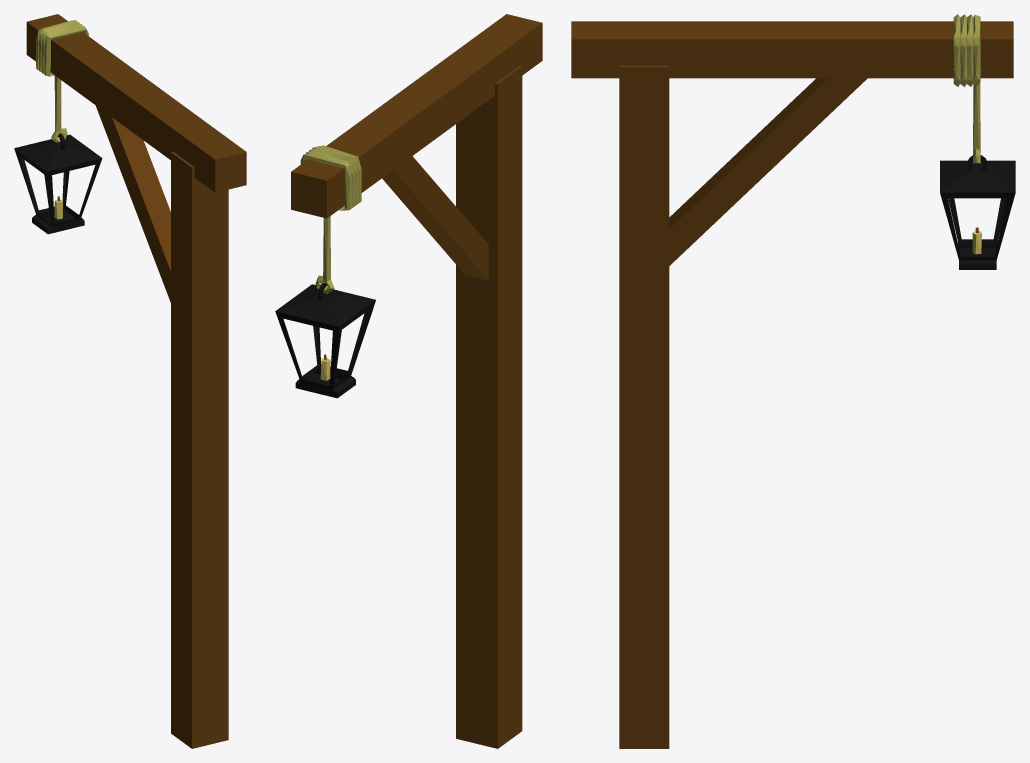
Rendered from PosteDeLuz.fbx.
3 views of the same model, side by side, from view 1: azimuth 30°, elevation 25°; view 2: azimuth 150°, elevation 25°; view 3: azimuth 270°, elevation 25° (orthographic). The views are drawn at different scales.
Visible parts, largest first — view 1: Cube, Cube.003, Cube.002, Circle, Cylinder.003; view 2: Cube, Cube.003, Circle, Cube.002, Cylinder.003; view 3: Cube, Cube.003, Cube.002, Circle, Cylinder.003.
Boxes of the visible parts, x1,y1,x2,y2 form: Cube: [171, 151, 228, 748]; Cube.003: [26, 14, 246, 192]; Cube.002: [95, 105, 170, 302]; Circle: [14, 133, 102, 234]; Cylinder.003: [36, 20, 88, 142]; Cube: [456, 66, 522, 748]; Cube.003: [291, 14, 542, 218]; Circle: [275, 282, 375, 398]; Cube.002: [382, 156, 488, 280]; Cylinder.003: [300, 145, 361, 294]; Cube: [619, 65, 669, 748]; Cube.003: [571, 21, 1013, 78]; Cube.002: [669, 78, 867, 265]; Circle: [940, 155, 1015, 269]; Cylinder.003: [953, 14, 980, 163].
Bounding box in the file's own units: 0.6467 × 6.73 × 3.79.
